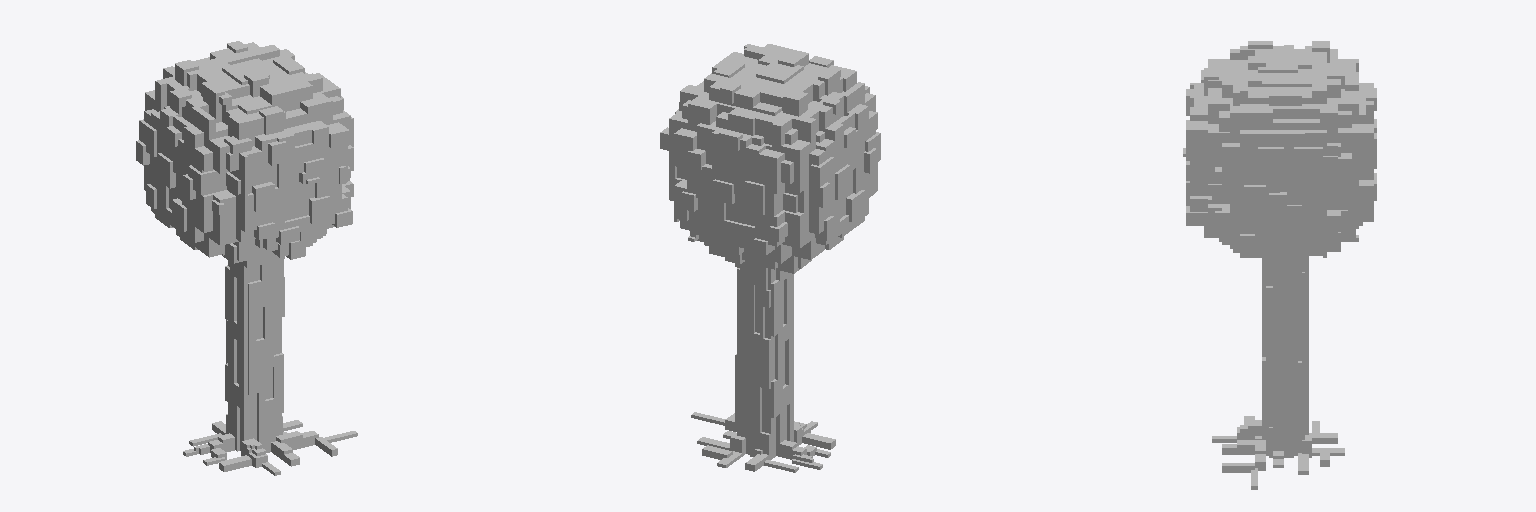
File: tree.obj
3 renders of one model, left to right at view 1: azimuth 30°, elevation 25°; view 2: azimuth 150°, elevation 25°; view 3: azimuth 270°, elevation 25°, orthographic.
Parts seen in each view (by area): view 1: tree; view 2: tree; view 3: tree.
Part boxes in pixels (bbox=[...]): tree: bbox=[136, 41, 357, 475]; tree: bbox=[660, 44, 880, 472]; tree: bbox=[1183, 41, 1376, 489].
Size of the model in its own units: 56 by 117 by 54.